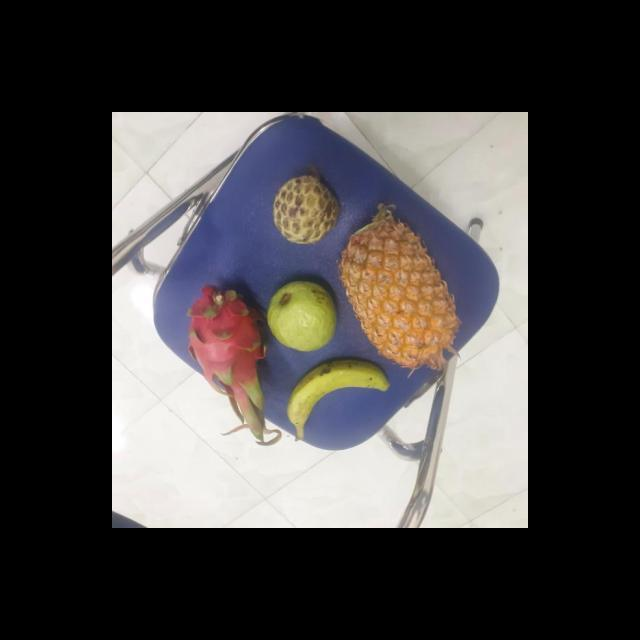Sakya fruit: (272, 173, 344, 246)
banana: (290, 361, 390, 436)
guava: (266, 277, 340, 351)
pineapple: (341, 209, 463, 367)
pitaya: (189, 291, 271, 404)
